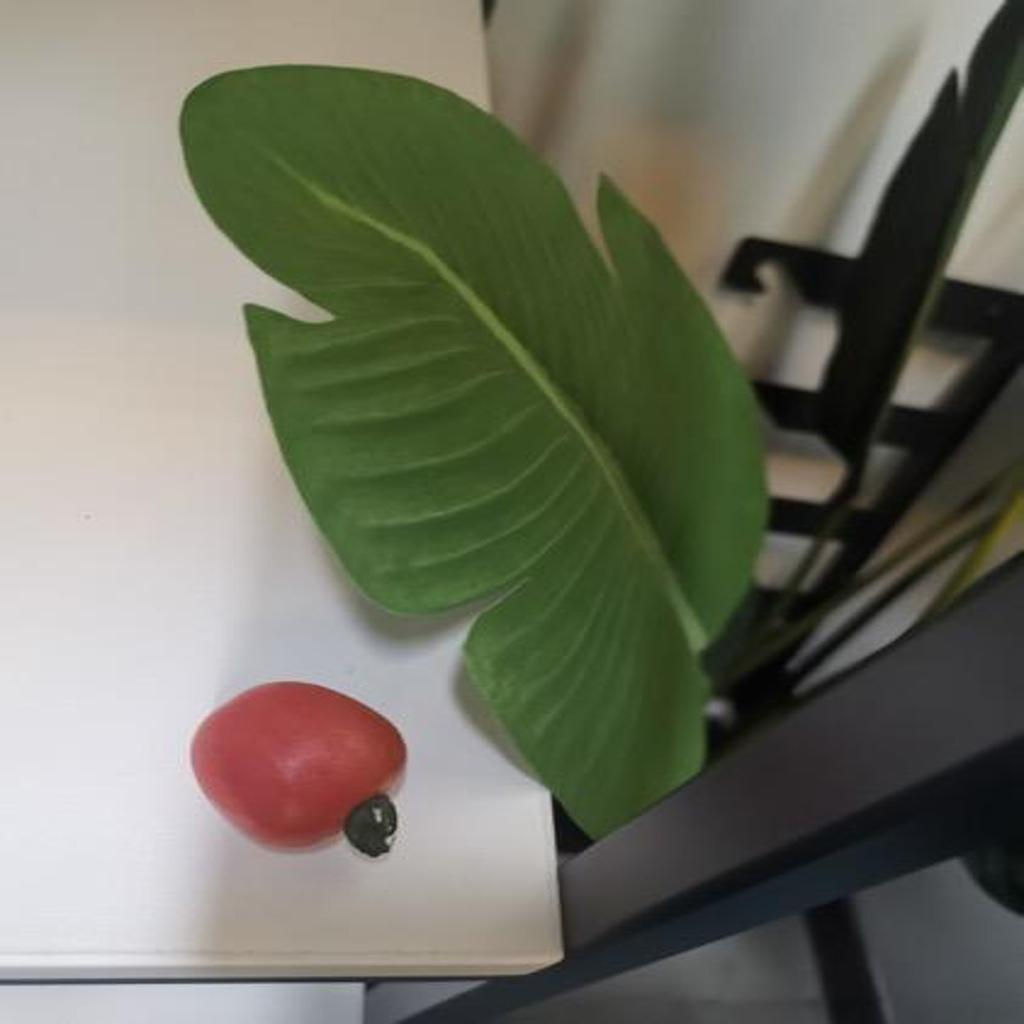tomato: (182, 682, 416, 860)
